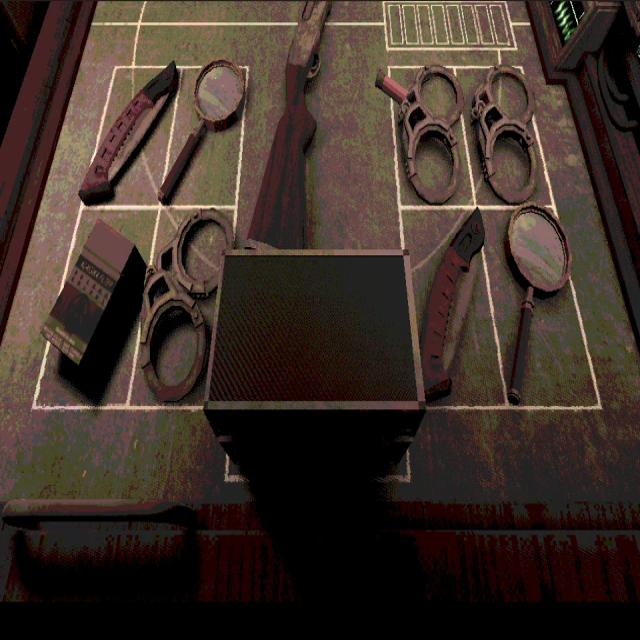ally: (0, 17, 639, 531)
cigar: (42, 219, 146, 382)
doubledamage: (79, 61, 179, 204), (421, 207, 484, 402)
gun: (247, 0, 332, 248)
handcuff: (140, 208, 232, 405), (395, 65, 464, 204), (471, 65, 539, 204)
inventorybox: (203, 253, 425, 415)
lens: (505, 206, 570, 404), (159, 59, 245, 202)
